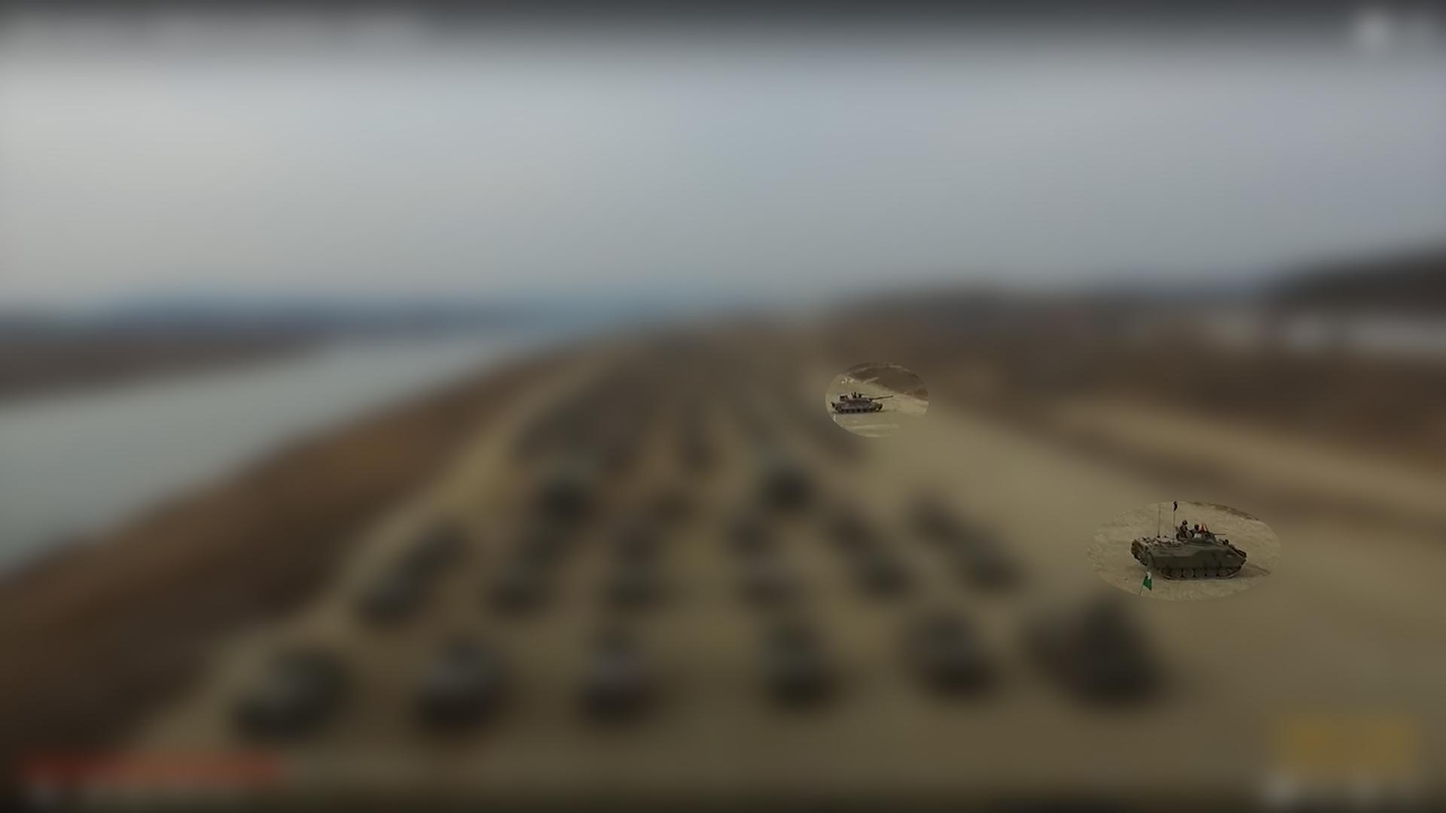armored_car: (1127, 527, 1248, 587)
tank: (827, 385, 898, 422)
